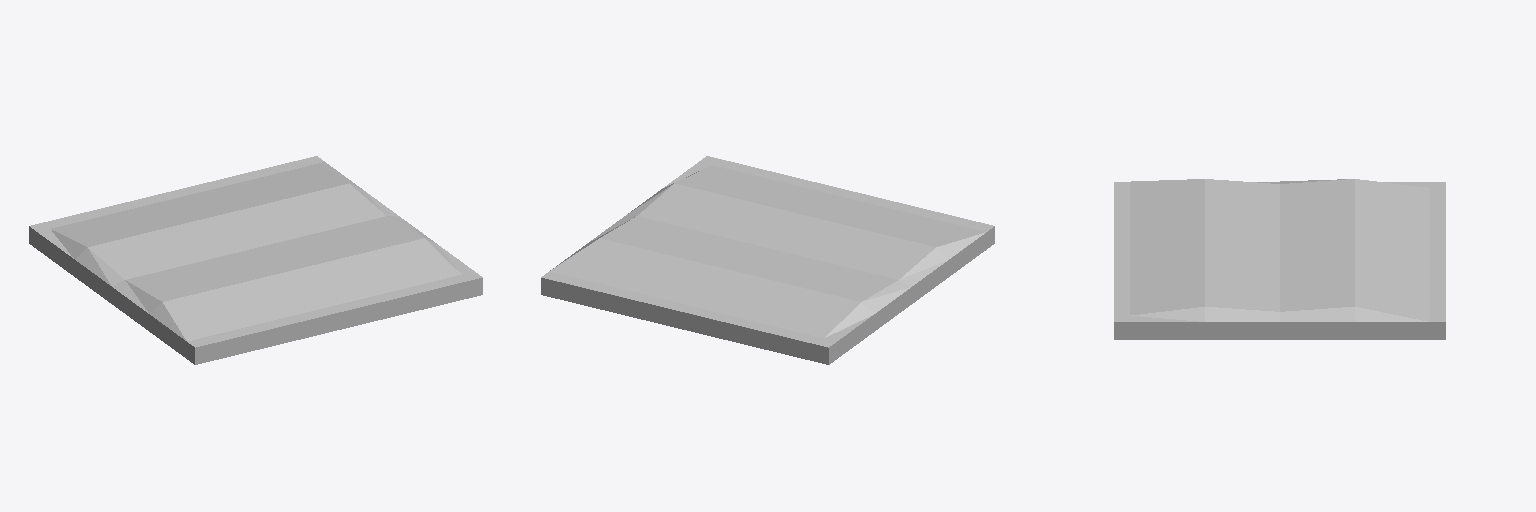
File: dirt.obj
3 renders of one model, left to right at view 1: azimuth 30°, elevation 25°; view 2: azimuth 150°, elevation 25°; view 3: azimuth 270°, elevation 25°, orthographic.
Parts seen in each view (by area): view 1: Cube; view 2: Cube; view 3: Cube.
Part boxes in pixels (x1,y1,x2,y2): Cube: (29, 156, 482, 364); Cube: (541, 156, 994, 364); Cube: (1114, 179, 1445, 339).
Bounding box in the file's own units: 2 × 0.176 × 2.